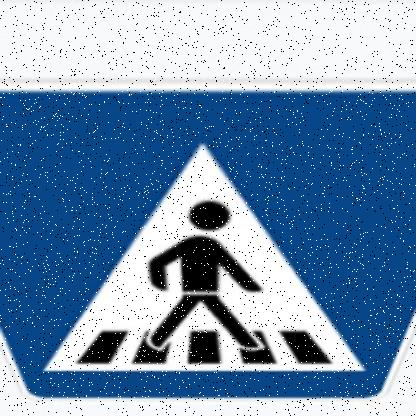Pedestrian Crossing: (1, 73, 416, 405)
